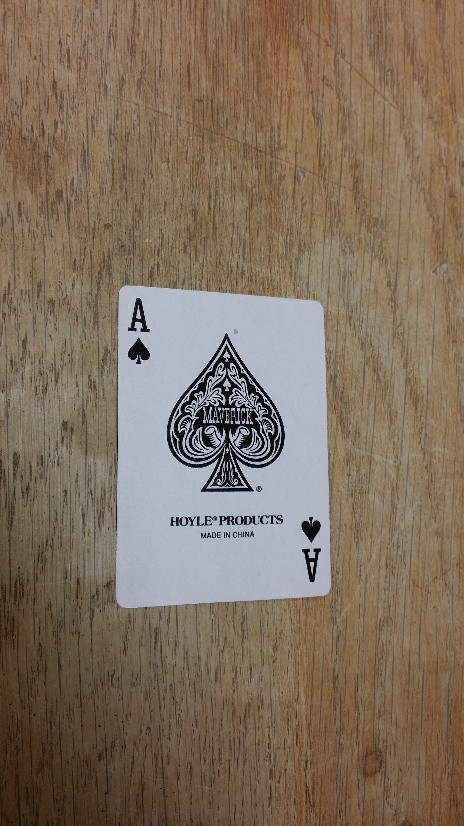Sa: (123, 291, 157, 365), (295, 509, 324, 587)
